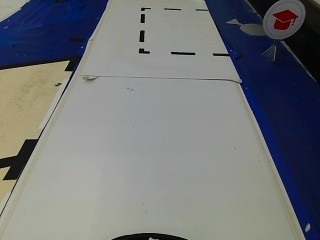school: (259, 0, 303, 37)
